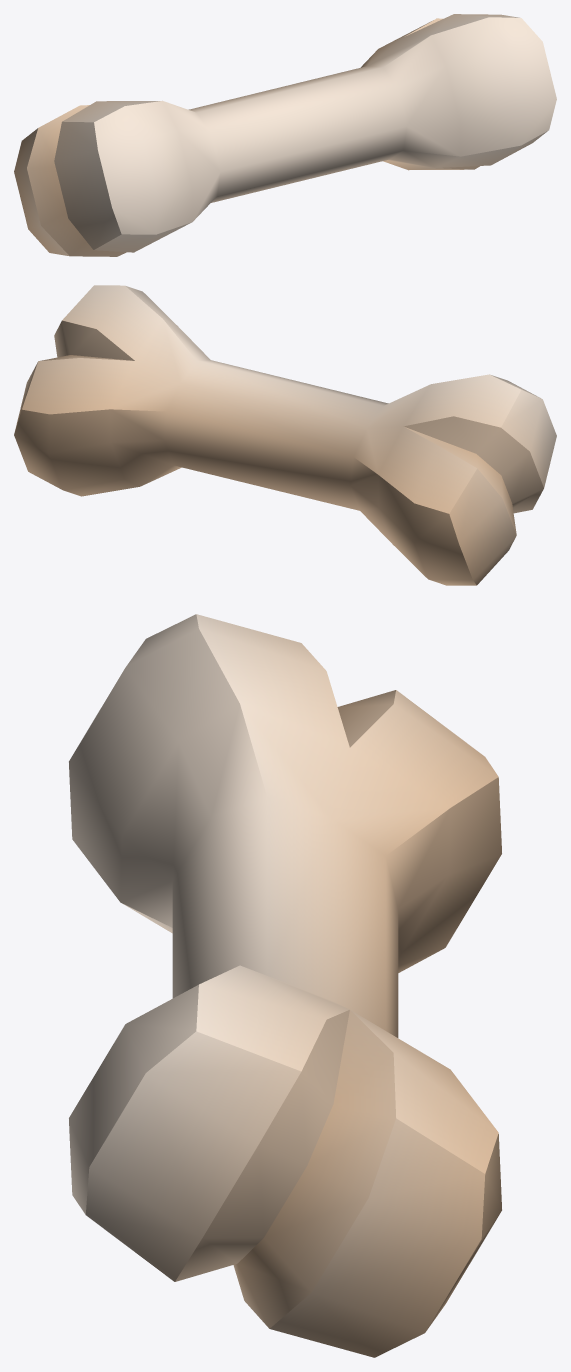
File: Bone_3.glb
The picture shows the model from 3 angles, top to bottom: view 1: azimuth 30°, elevation 25°; view 2: azimuth 150°, elevation 25°; view 3: azimuth 270°, elevation 25°; orthographic projection. The views are drawn at different scales.
Visible parts, largest first — view 1: bone_A; view 2: bone_A; view 3: bone_A.
Boxes of the visible parts, left/top/right/bottom form: bone_A: left=14, top=14, right=556, bottom=256; bone_A: left=14, top=285, right=556, bottom=585; bone_A: left=69, top=614, right=501, bottom=1357.
Bounding box in the file's own units: 0.3535 × 0.1273 × 0.1394.
1 material, 1 textured.
